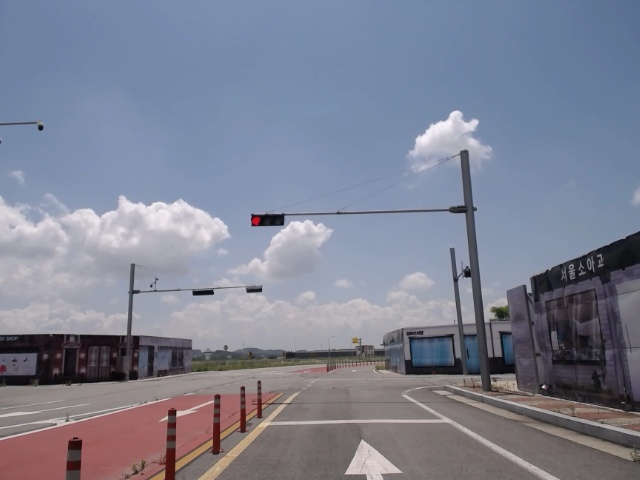red_3: (247, 213, 285, 227)
